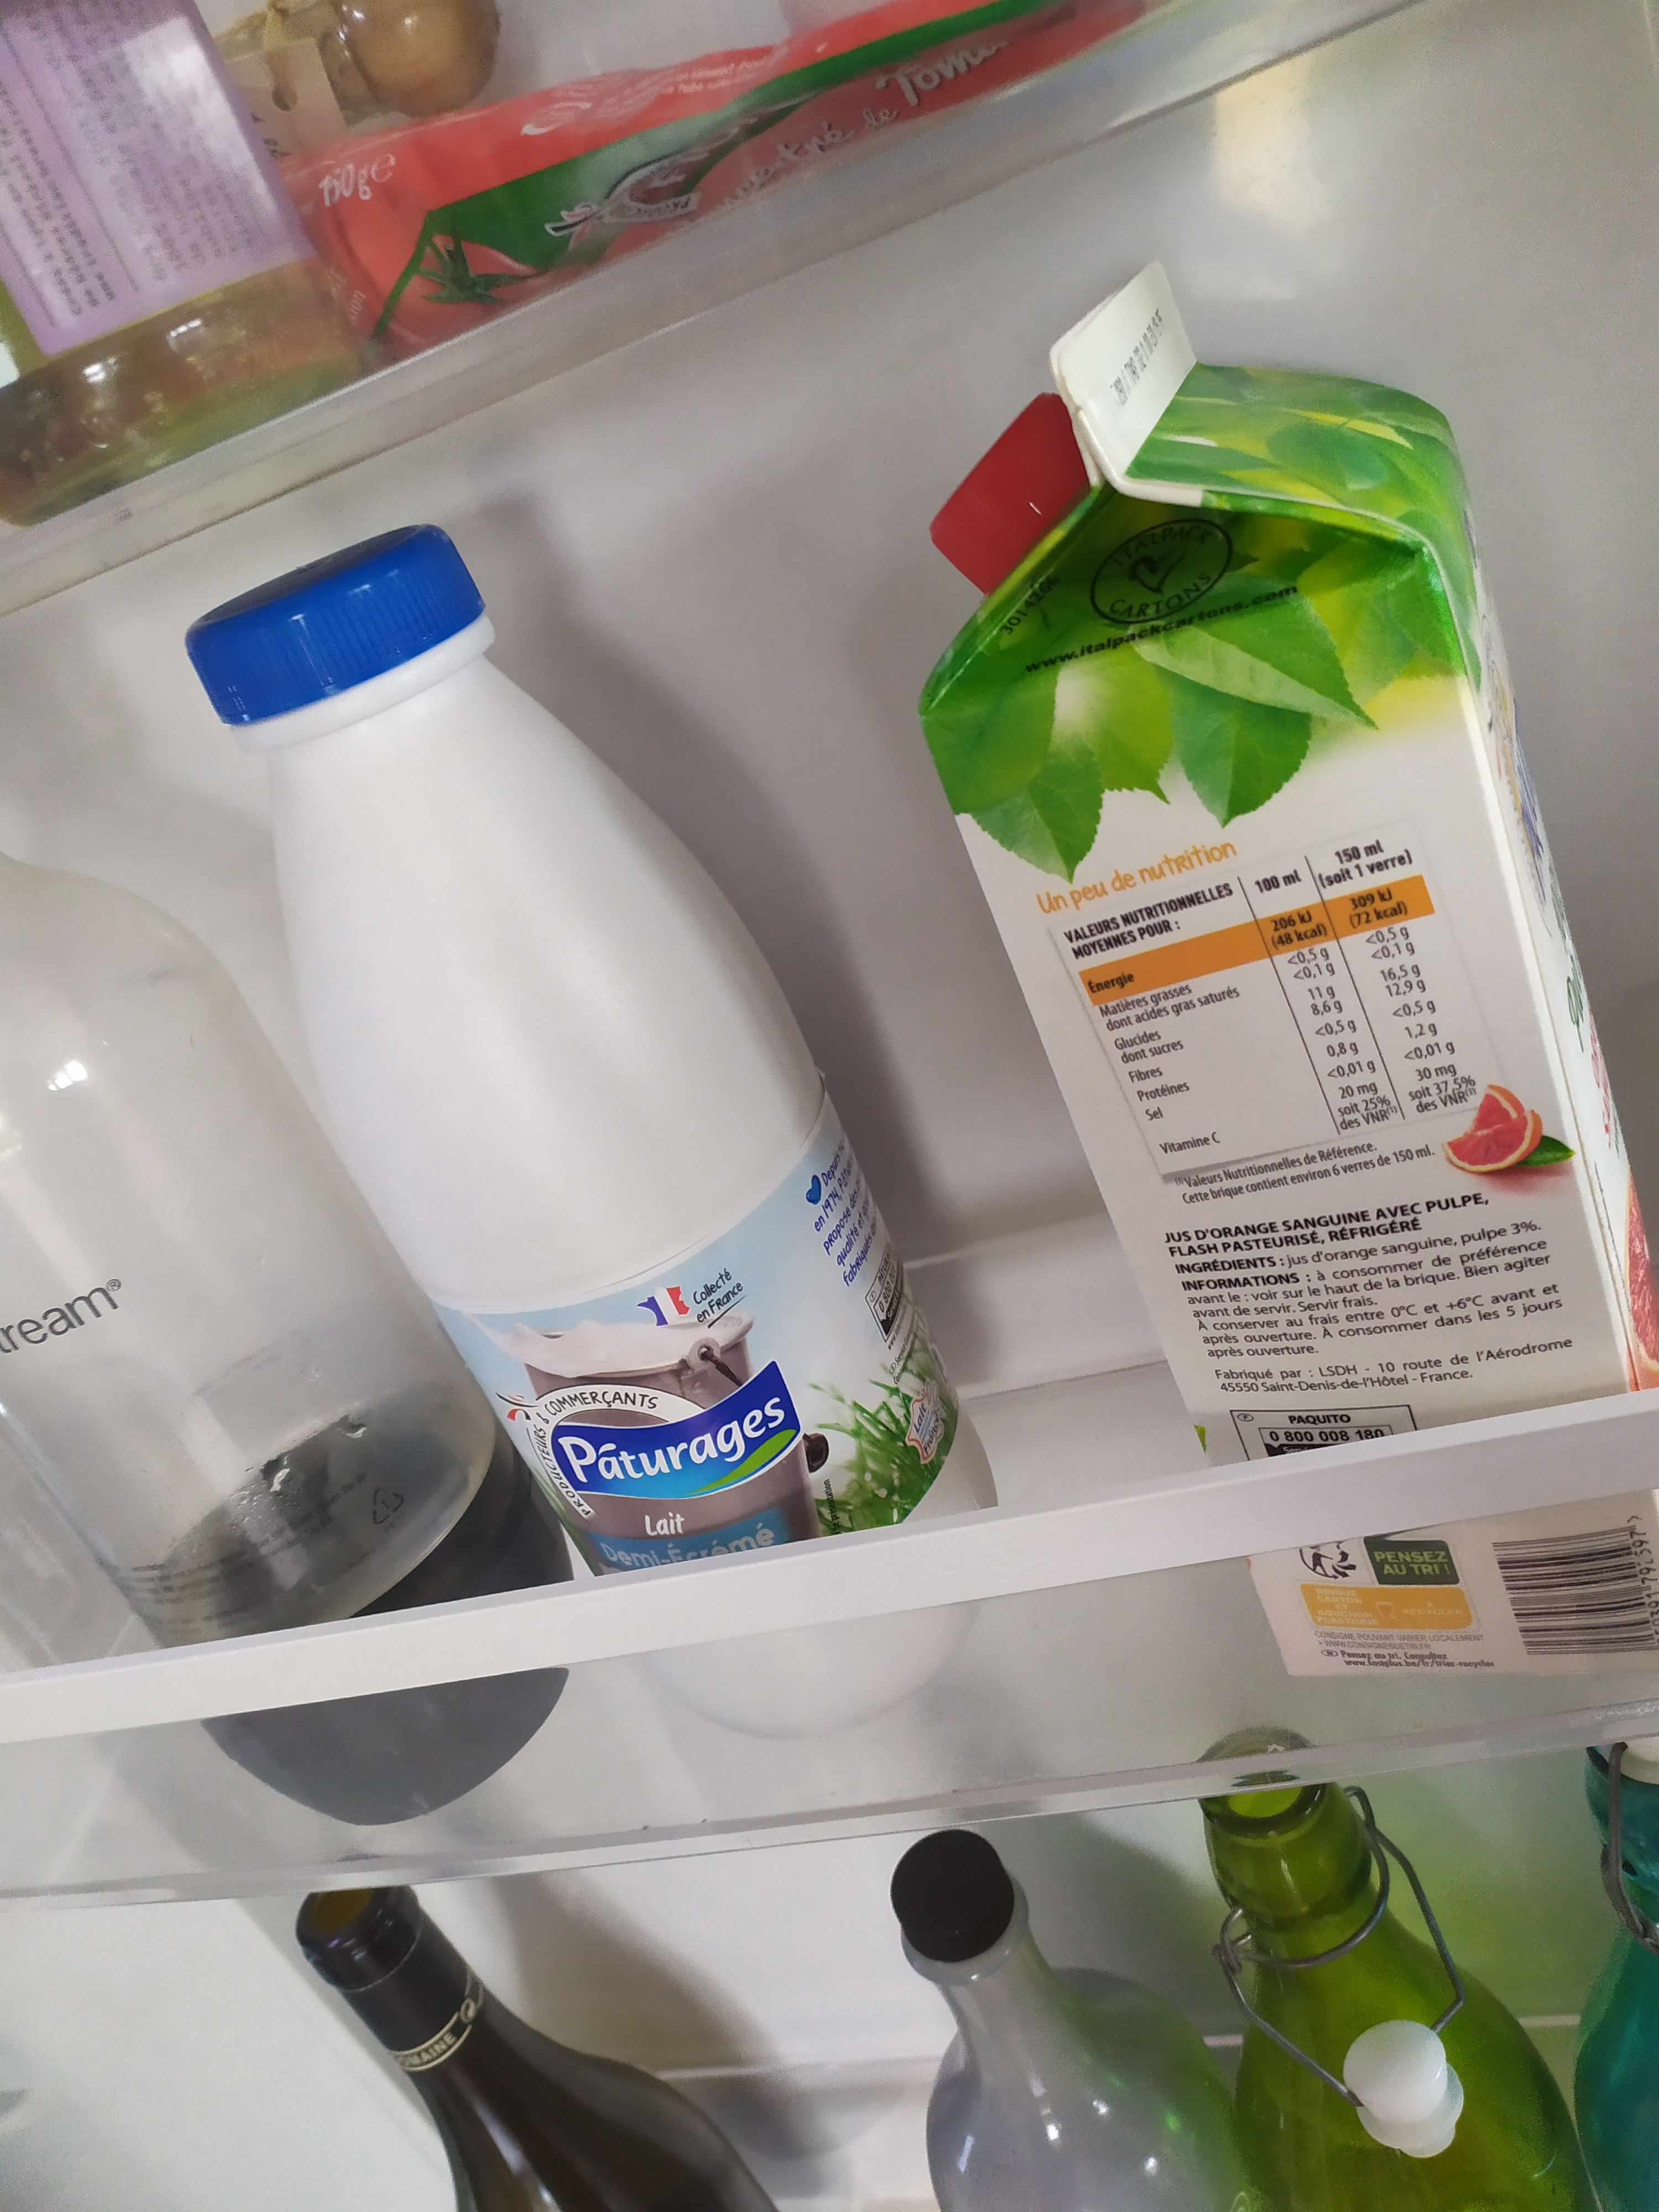bottle: (193, 521, 1051, 1726), (932, 263, 1659, 1679), (5, 840, 575, 1832), (0, 0, 362, 517), (1206, 1733, 1596, 2212), (296, 1871, 793, 2210), (887, 1841, 1244, 2212), (1577, 1703, 1659, 2212)
